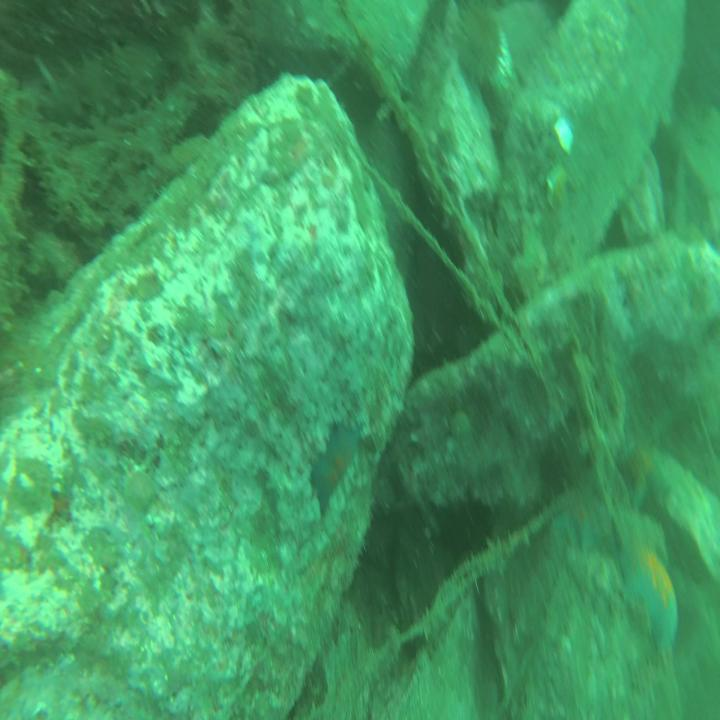echinus: (453, 0, 508, 90)
holothurian: (34, 31, 172, 122)
starfish: (619, 528, 680, 672), (311, 422, 365, 523), (616, 419, 672, 516), (556, 481, 612, 560)
